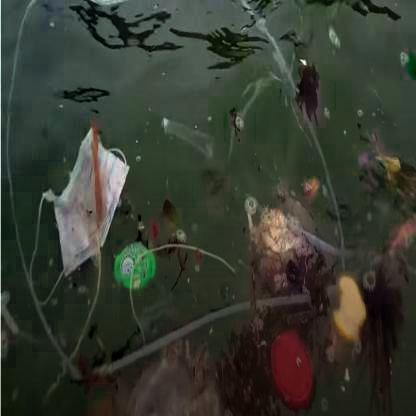Mask: (16, 90, 148, 356)
